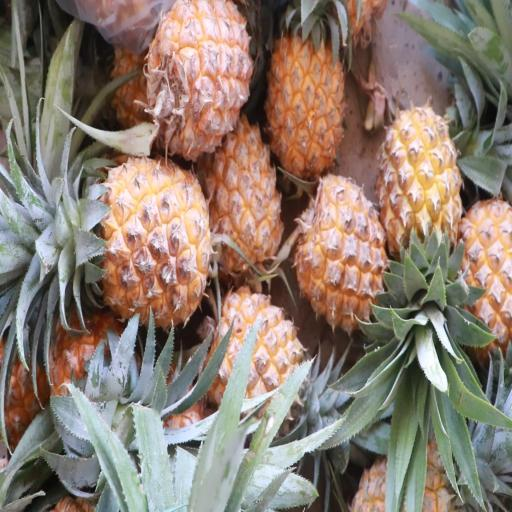Pineapple - v8 v1: (47, 148, 218, 326), (203, 279, 318, 436), (150, 1, 259, 164), (295, 171, 398, 340), (375, 100, 463, 296), (267, 4, 349, 188), (207, 102, 288, 279)
